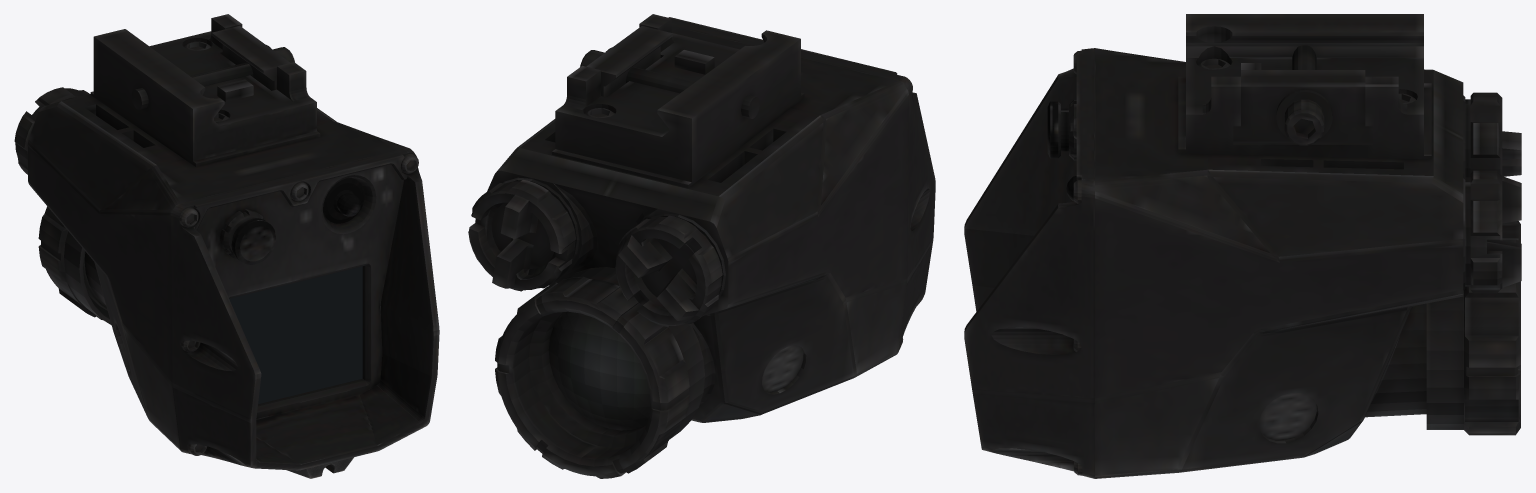
3 renders of one model, left to right at view 1: azimuth 30°, elevation 25°; view 2: azimuth 150°, elevation 25°; view 3: azimuth 270°, elevation 25°, orthographic. The views are drawn at different scales.
Parts seen in each view (by area): view 1: TW_6478641c19d732620e045e17_PZ_Import; view 2: TW_6478641c19d732620e045e17_PZ_Import; view 3: TW_6478641c19d732620e045e17_PZ_Import.
Part boxes in pixels (x1=…): TW_6478641c19d732620e045e17_PZ_Import: x1=14, y1=14, x2=439, y2=478; TW_6478641c19d732620e045e17_PZ_Import: x1=468, y1=14, x2=935, y2=478; TW_6478641c19d732620e045e17_PZ_Import: x1=964, y1=14, x2=1521, y2=478.
Bounding box in the file's own units: 0.0385 × 0.0633 × 0.0493.
1 material, 1 textured.
